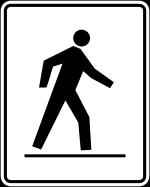Pedestrian Crossing: (16, 13, 138, 166)
